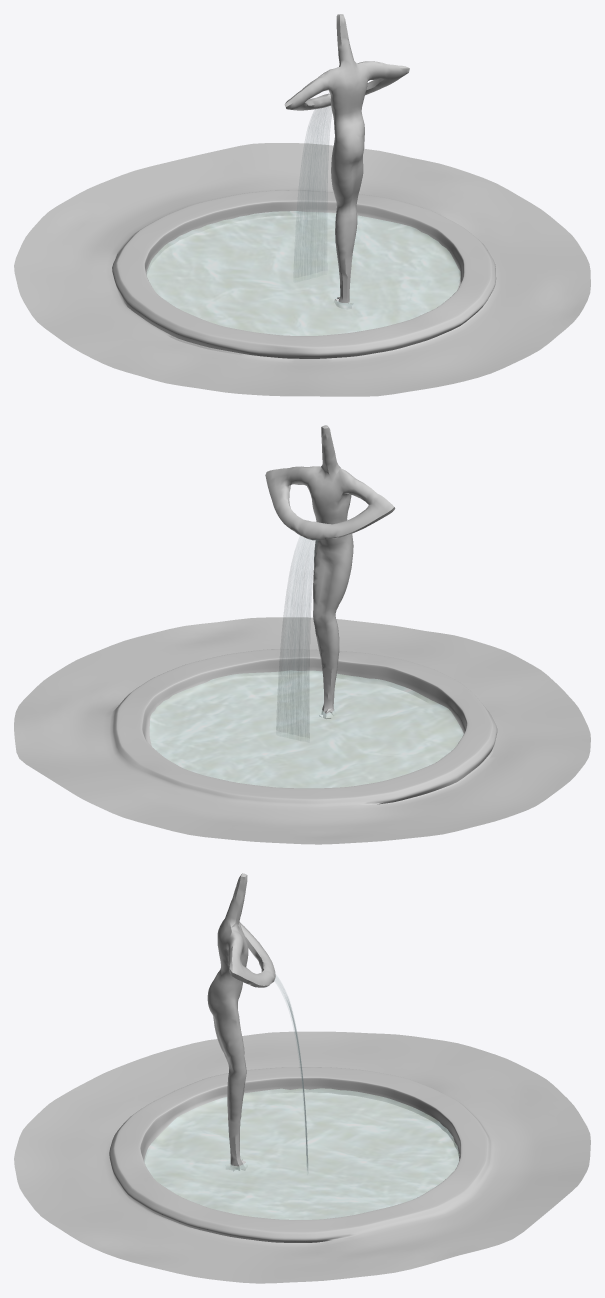
3 renders of one model, top to bottom at view 1: azimuth 30°, elevation 25°; view 2: azimuth 150°, elevation 25°; view 3: azimuth 270°, elevation 25°, orthographic.
Visible parts, largest first — view 1: Main, Water1, Water2; view 2: Main, Water1, Water2; view 3: Main, Water1.
Boxes of the visible parts, bbox=[...] form: Main: bbox=[14, 14, 590, 396]; Water1: bbox=[147, 211, 460, 335]; Water2: bbox=[294, 106, 331, 279]; Main: bbox=[14, 425, 590, 844]; Water1: bbox=[150, 670, 463, 787]; Water2: bbox=[276, 536, 317, 740]; Main: bbox=[14, 873, 590, 1283]; Water1: bbox=[144, 1088, 459, 1219].
Size of the model in its own units: 231 by 131 by 228.
